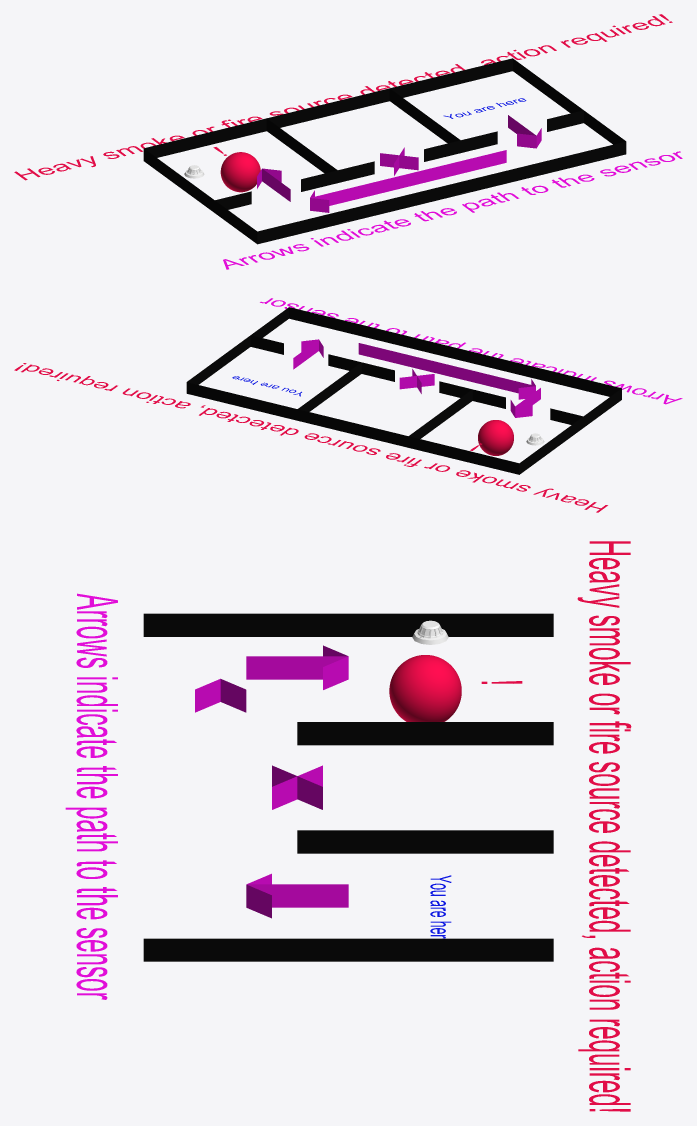
The model's file is reactionNeeded.glb.
3 renders of one model, top to bottom at view 1: azimuth 30°, elevation 25°; view 2: azimuth 150°, elevation 25°; view 3: azimuth 270°, elevation 25°, orthographic. The views are drawn at different scales.
Visible parts, largest first — view 1: Object_23, Object_11.001, Object_22, Object_27, Object_24, Object_26, Object_28, Object_5.001, Object_25, Object_6.001, Object_1.001; view 2: Object_23, Object_11.001, Object_22, Object_24, Object_27, Object_28, Object_26, Object_9.001, Object_25, Object_7.001, Object_1.001; view 3: Object_23, Object_26, Object_28, Object_22, Object_9.001, Object_5.001, Object_6.001, Object_7.001.
Part boxes in pixels (bbox=[...]): Object_23: bbox=[143, 58, 626, 244]; Object_11.001: bbox=[310, 150, 506, 205]; Object_22: bbox=[220, 152, 260, 192]; Object_27: bbox=[301, 161, 374, 191]; Object_24: bbox=[424, 131, 497, 161]; Object_26: bbox=[389, 88, 460, 143]; Object_28: bbox=[266, 118, 337, 173]; Object_5.001: bbox=[262, 168, 290, 201]; Object_25: bbox=[547, 110, 583, 131]; Object_6.001: bbox=[380, 153, 418, 170]; Object_1.001: bbox=[215, 191, 251, 209]; Object_23: bbox=[186, 307, 621, 474]; Object_11.001: bbox=[358, 343, 535, 399]; Object_22: bbox=[478, 420, 513, 455]; Object_24: bbox=[328, 354, 394, 381]; Object_27: bbox=[439, 381, 505, 408]; Object_28: bbox=[409, 389, 472, 438]; Object_26: bbox=[298, 362, 361, 411]; Object_9.001: bbox=[293, 339, 318, 369]; Object_25: bbox=[250, 335, 283, 354]; Object_7.001: bbox=[399, 374, 434, 389]; Object_1.001: bbox=[550, 408, 582, 424]; Object_23: bbox=[143, 613, 553, 961]; Object_26: bbox=[297, 830, 553, 853]; Object_28: bbox=[297, 722, 553, 745]; Object_22: bbox=[389, 655, 461, 721]; Object_9.001: bbox=[246, 884, 348, 918]; Object_5.001: bbox=[246, 656, 348, 689]; Object_6.001: bbox=[272, 765, 322, 809]; Object_7.001: bbox=[272, 765, 322, 809].
Bounding box in the file's own units: 5.26 × 0.2914 × 2.21.
